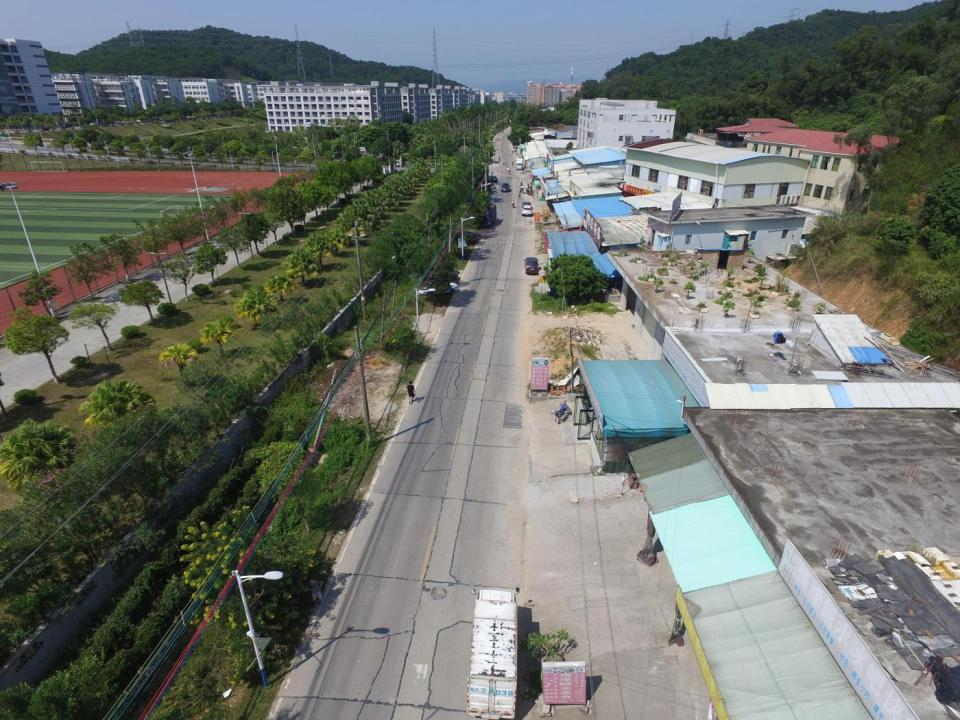bus: (523, 257, 539, 274)
car: (521, 202, 534, 215), (502, 183, 510, 192), (490, 176, 497, 182)
truck: (467, 586, 520, 720)
